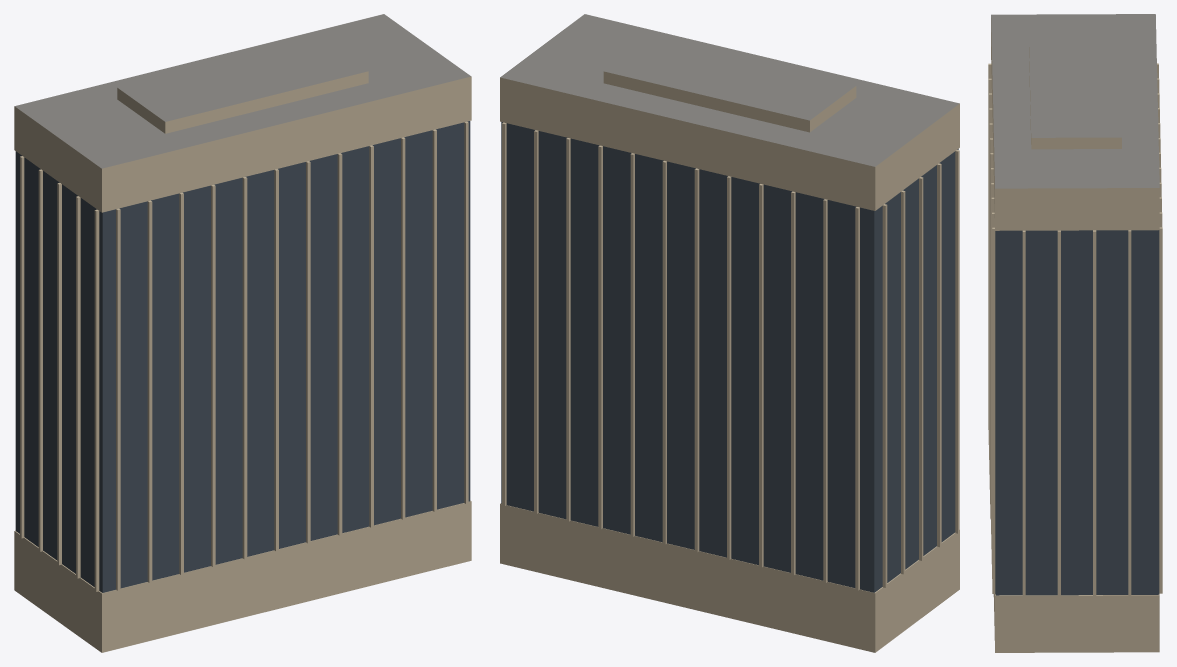
Rendered from zions_bank_building.glb.
3 renders of one model, left to right at view 1: azimuth 30°, elevation 25°; view 2: azimuth 150°, elevation 25°; view 3: azimuth 270°, elevation 25°, orthographic. The views are drawn at different scales.
Visible parts, largest first — view 1: Zions_Bank_Building; view 2: Zions_Bank_Building; view 3: Zions_Bank_Building.
Part boxes in pixels (x1,y1,x2,y2): Zions_Bank_Building: (14,14,471,652); Zions_Bank_Building: (500,14,959,652); Zions_Bank_Building: (988,14,1162,652).
Bounding box in the file's own units: 66.48 × 83.4 × 27.67.
